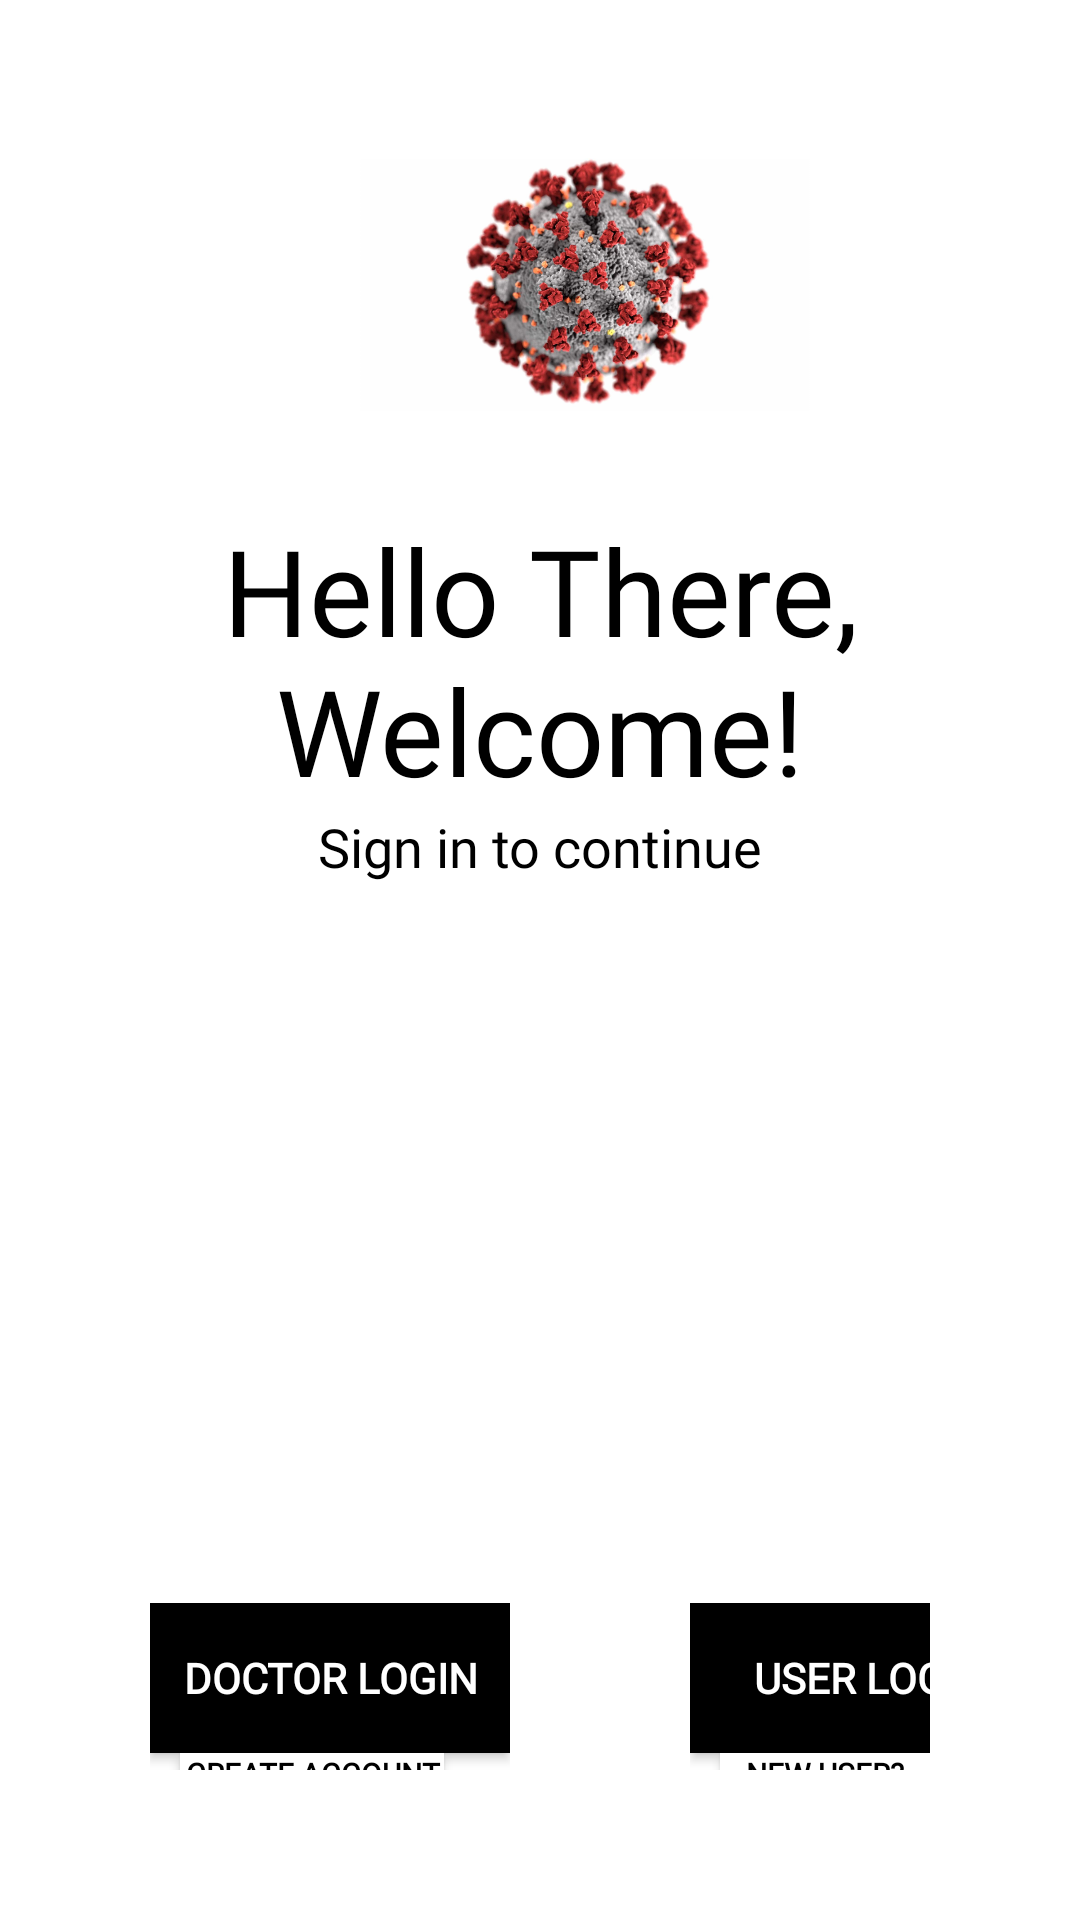

Point at icon controls on the screen. Image size 1080 x 1920, points as point (x, y).
covid: point (587, 282)
